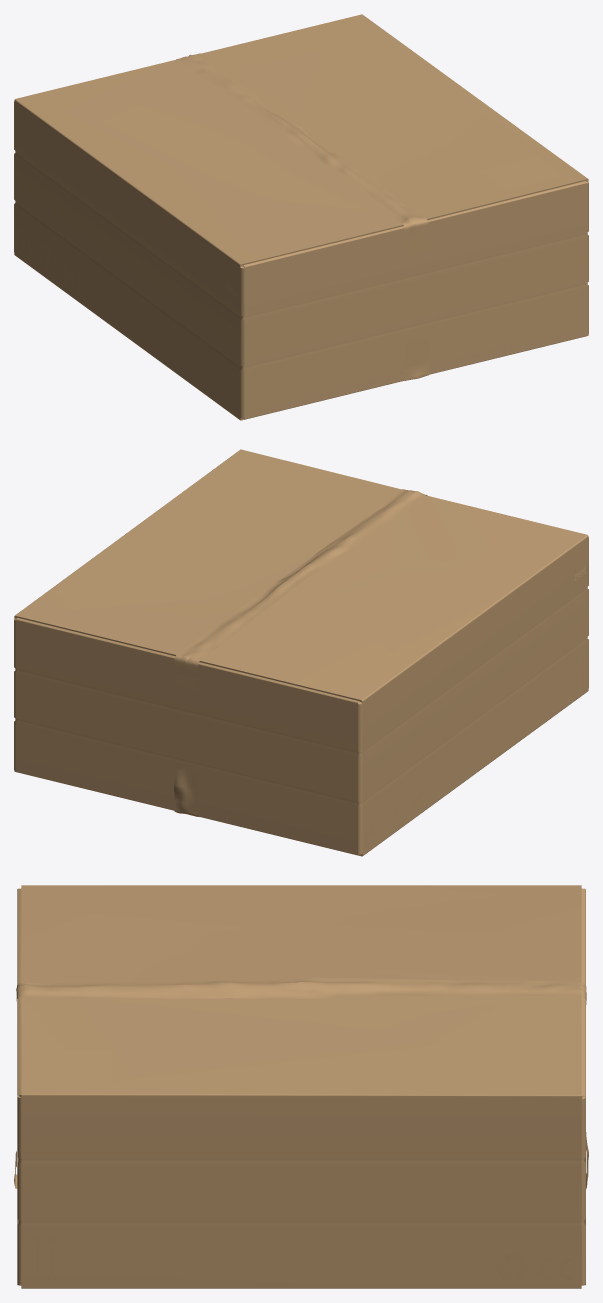
The model's file is box_multiDepth_brown_b08.glb.
3 renders of one model, top to bottom at view 1: azimuth 30°, elevation 25°; view 2: azimuth 150°, elevation 25°; view 3: azimuth 270°, elevation 25°, orthographic. The views are drawn at different scales.
Size of the model in its own units: 0.356 by 0.1606 by 0.4101.
